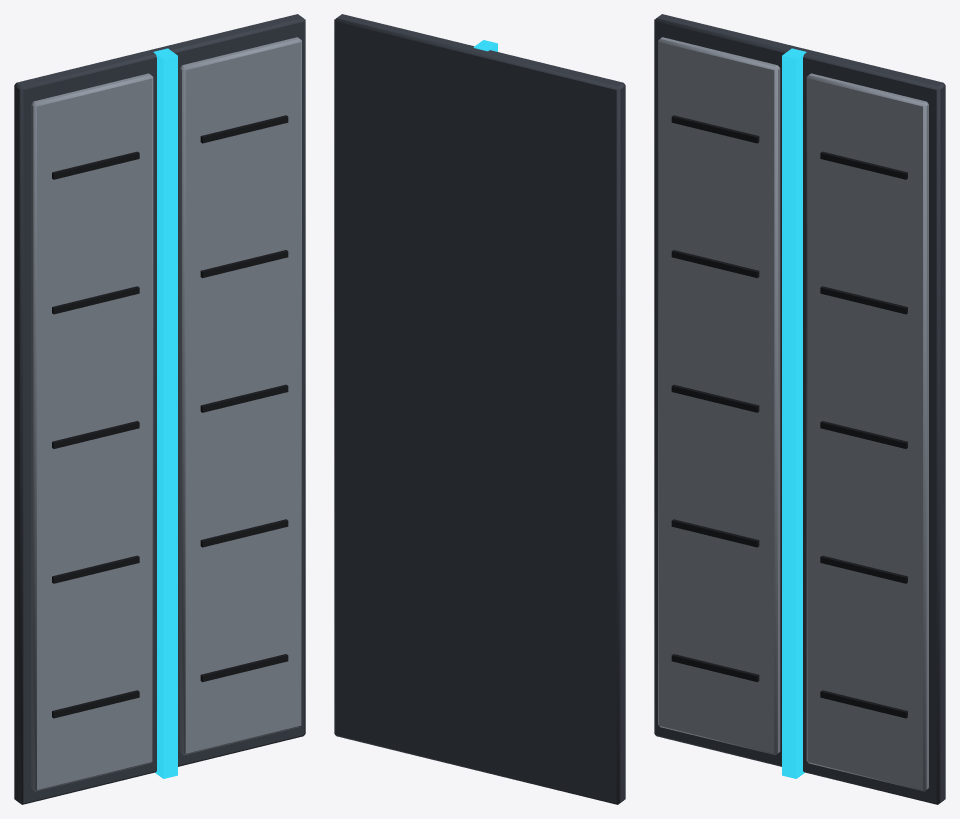
The model's file is wallpanel_tall_glow_seam.glb.
3 renders of one model, left to right at view 1: azimuth 30°, elevation 25°; view 2: azimuth 150°, elevation 25°; view 3: azimuth 330°, elevation 25°, orthographic.
Visible parts, largest first — view 1: wallpanel_tall_glow_seam; view 2: wallpanel_tall_glow_seam; view 3: wallpanel_tall_glow_seam.
Boxes of the visible parts, x1,y1,x2,y2 form: wallpanel_tall_glow_seam: (14, 14, 305, 804); wallpanel_tall_glow_seam: (334, 14, 625, 804); wallpanel_tall_glow_seam: (654, 14, 945, 804).
Size of the model in its own units: 1 by 2.41 by 0.092.
